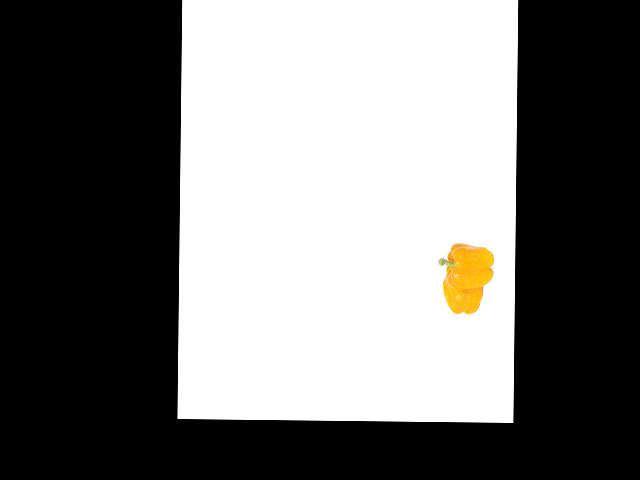bell_pepper: (440, 272, 489, 317)
